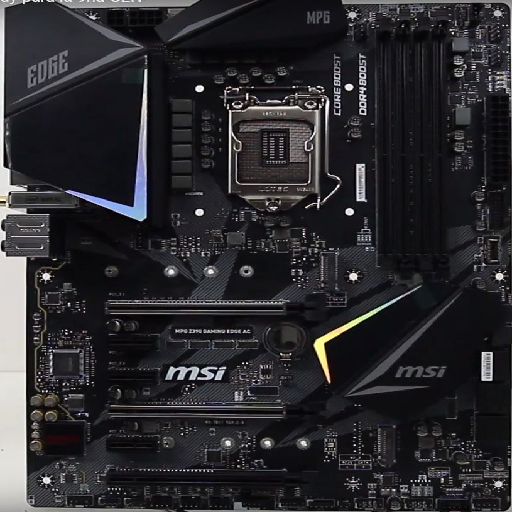CPU: (222, 87, 329, 211)
GPU: (108, 398, 324, 425), (102, 297, 326, 322), (103, 465, 317, 491)
MOTHERBOARD: (4, 3, 512, 509)
RAM: (371, 28, 455, 283)
SSD: (371, 425, 398, 468), (317, 250, 341, 291)
